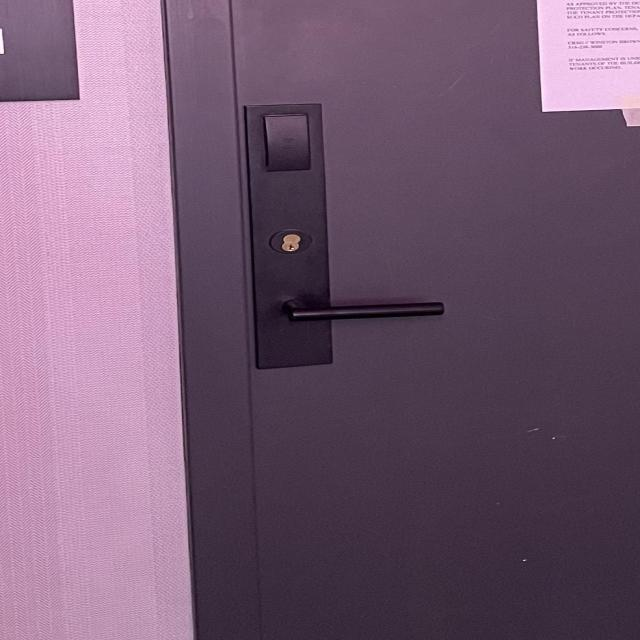door_handle: (261, 286, 471, 336)
